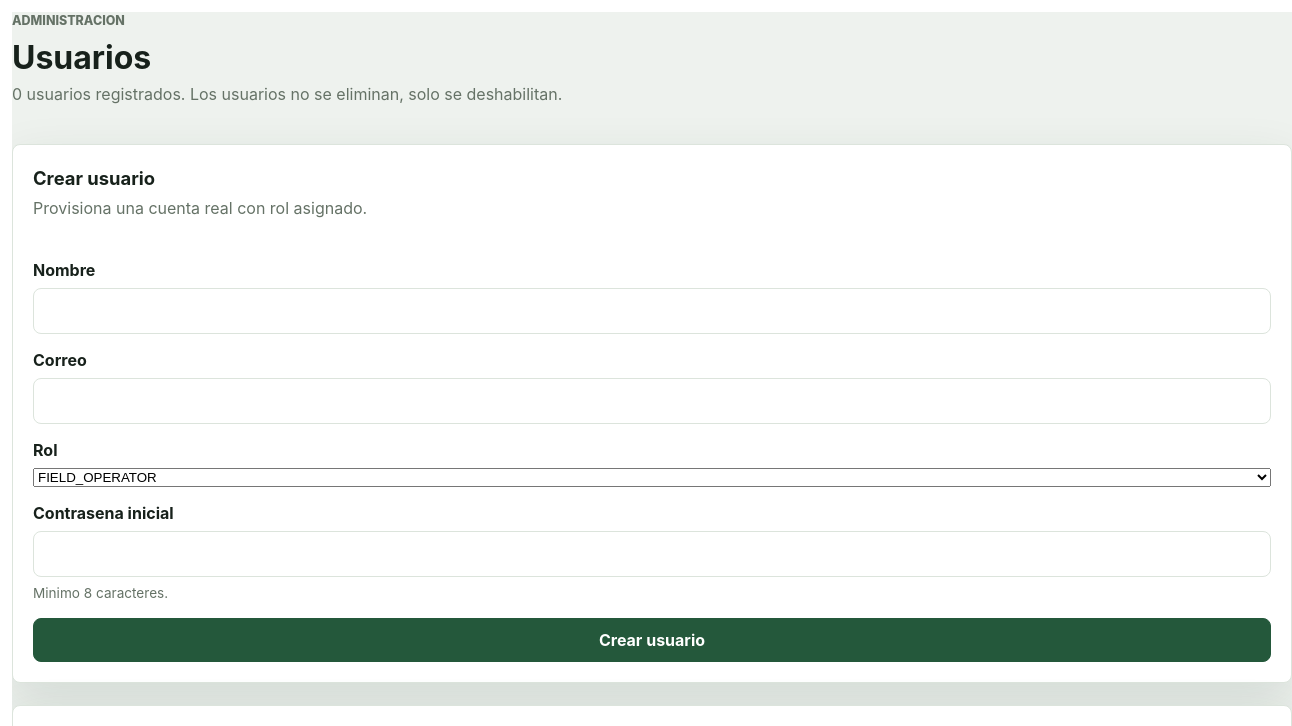
Test: UserListPage › shows the backend validation message when create fails
Step 1. Type "Nuevo Usuario" into the field labelled "Nombre" → x=652, y=311, box [33,288,1271,334]
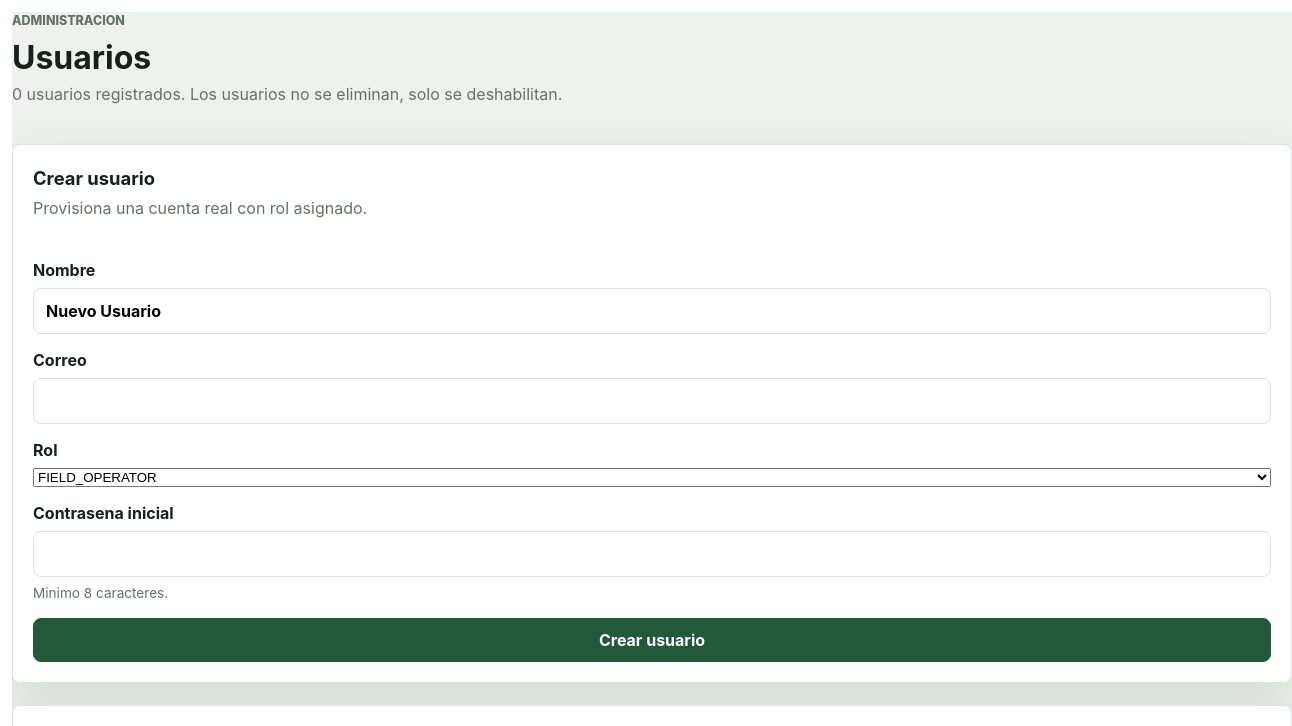
Step 2. Type "nuevo@gyrmonitor.local" into the field labelled "Correo" → x=652, y=401, box [33,378,1271,424]
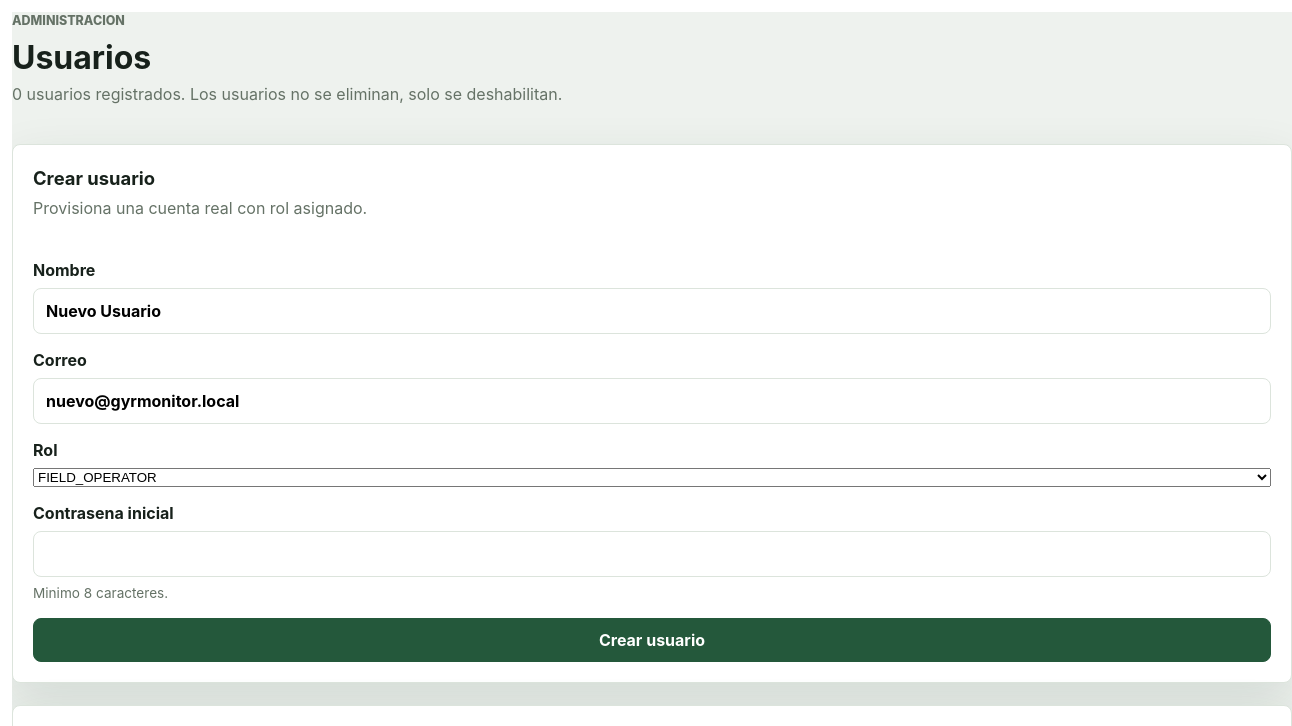
Step 3. Type "a-strong-password" into the password field labelled "Contrasena inicial" → x=652, y=554, box [33,531,1271,577]
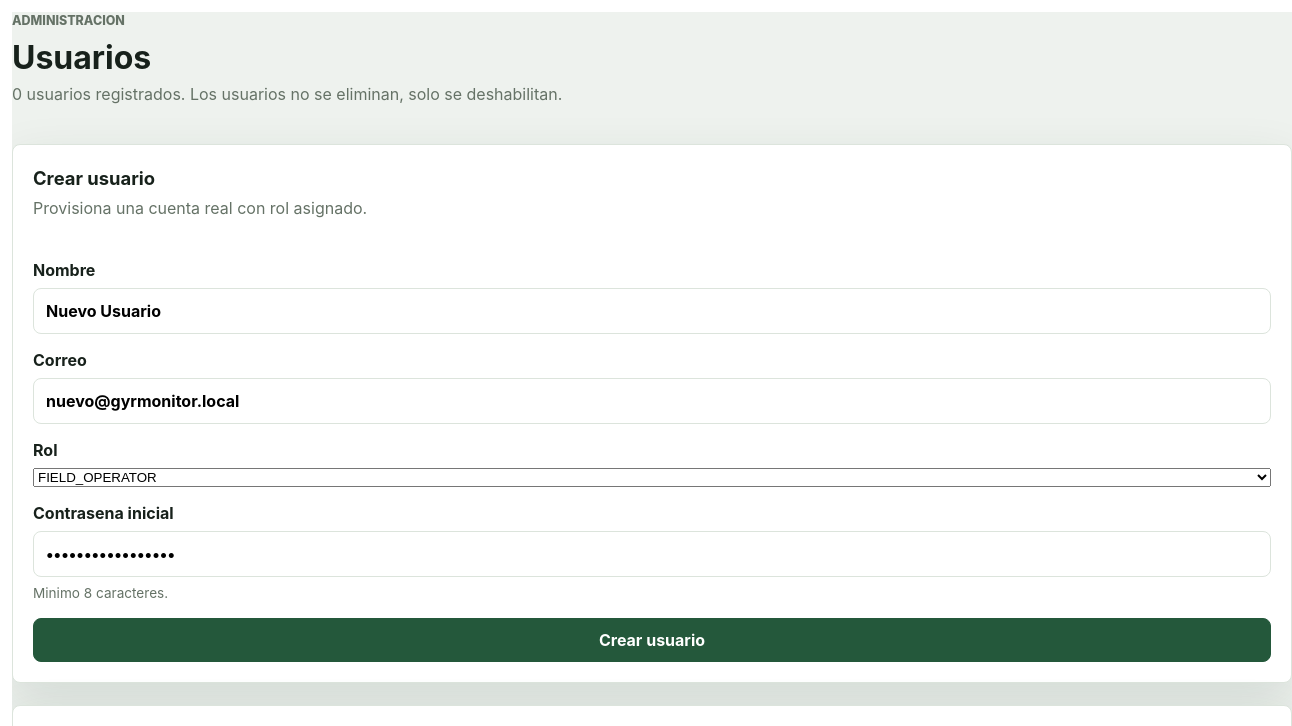
Step 4. Click the button "Crear usuario" → x=652, y=640, box [33,618,1271,662]
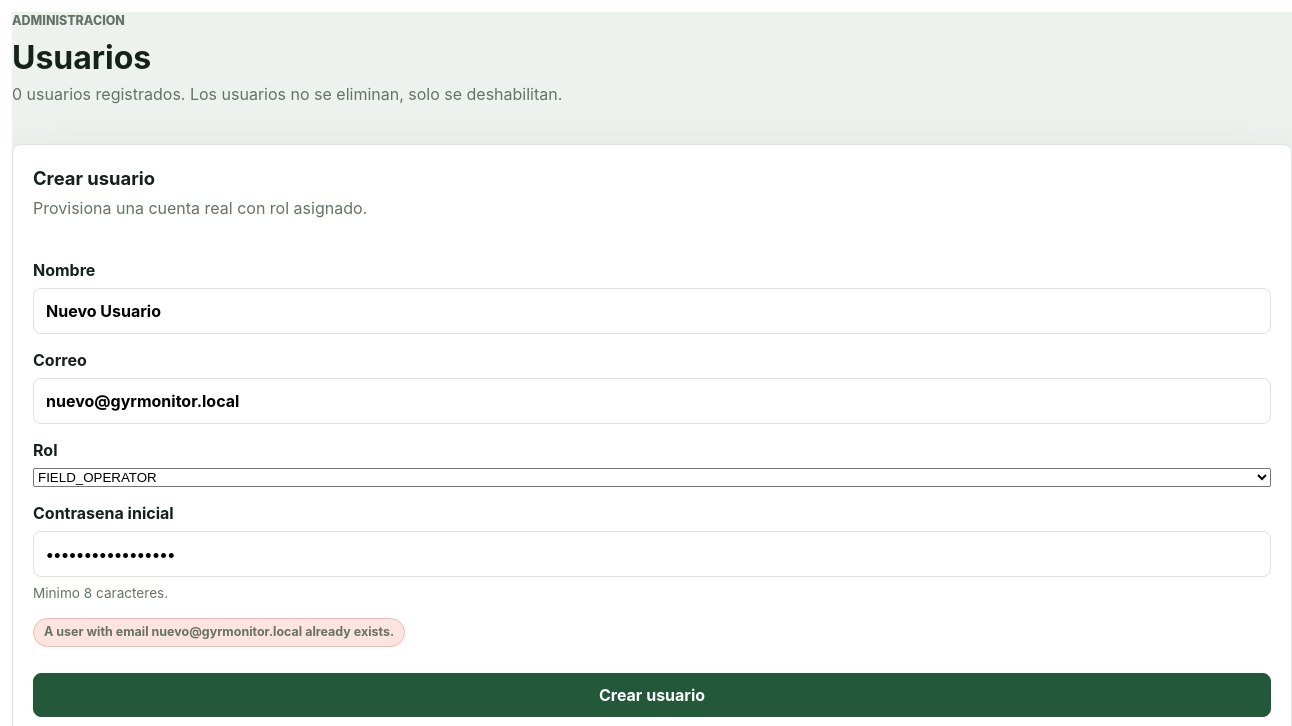
Check: the text "A user with email nuevo@gyrmonitor.local already exists." is shown, box [33,618,405,646]
